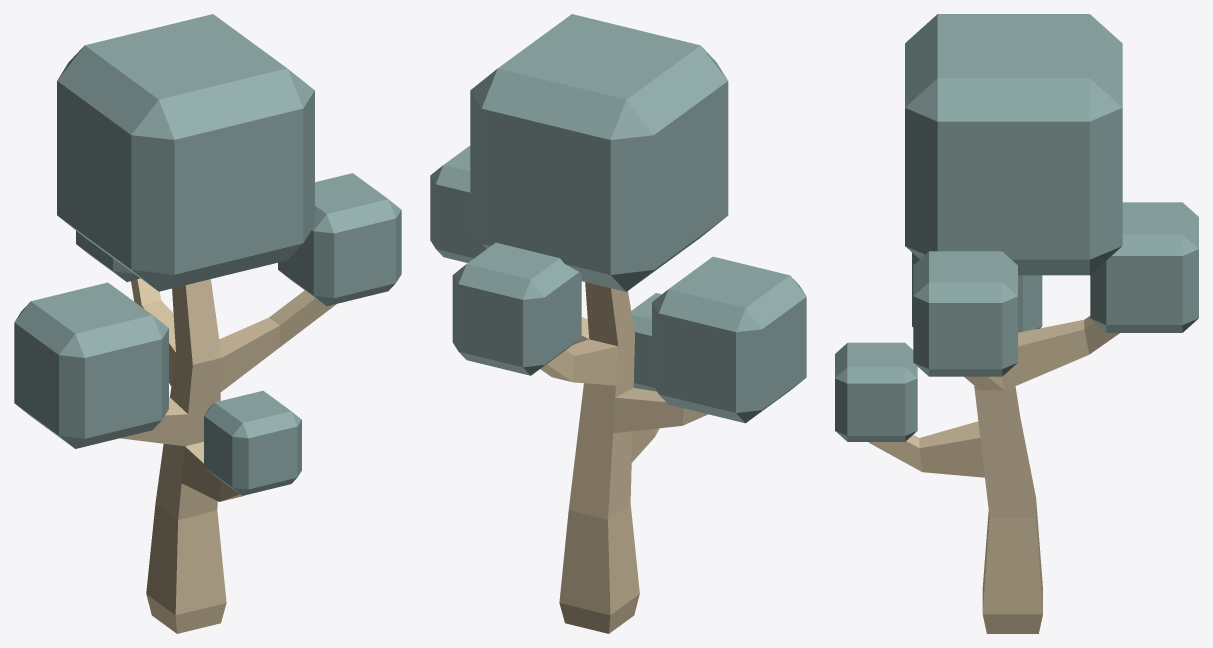
The model's file is naturePack_151.glb.
3 views of the same model, side by side, from view 1: azimuth 30°, elevation 25°; view 2: azimuth 150°, elevation 25°; view 3: azimuth 270°, elevation 25° (orthographic). The views are drawn at different scales.
Parts seen in each view (by area): view 1: Mesh1 Group1 Model; view 2: Mesh1 Group1 Model; view 3: Mesh1 Group1 Model.
Boxes of the visible parts, <box> form: Mesh1 Group1 Model: <box>14,14,401,633</box>; Mesh1 Group1 Model: <box>430,14,806,633</box>; Mesh1 Group1 Model: <box>835,14,1198,633</box>.
Size of the model in its own units: 3.39 by 5.33 by 3.05.
